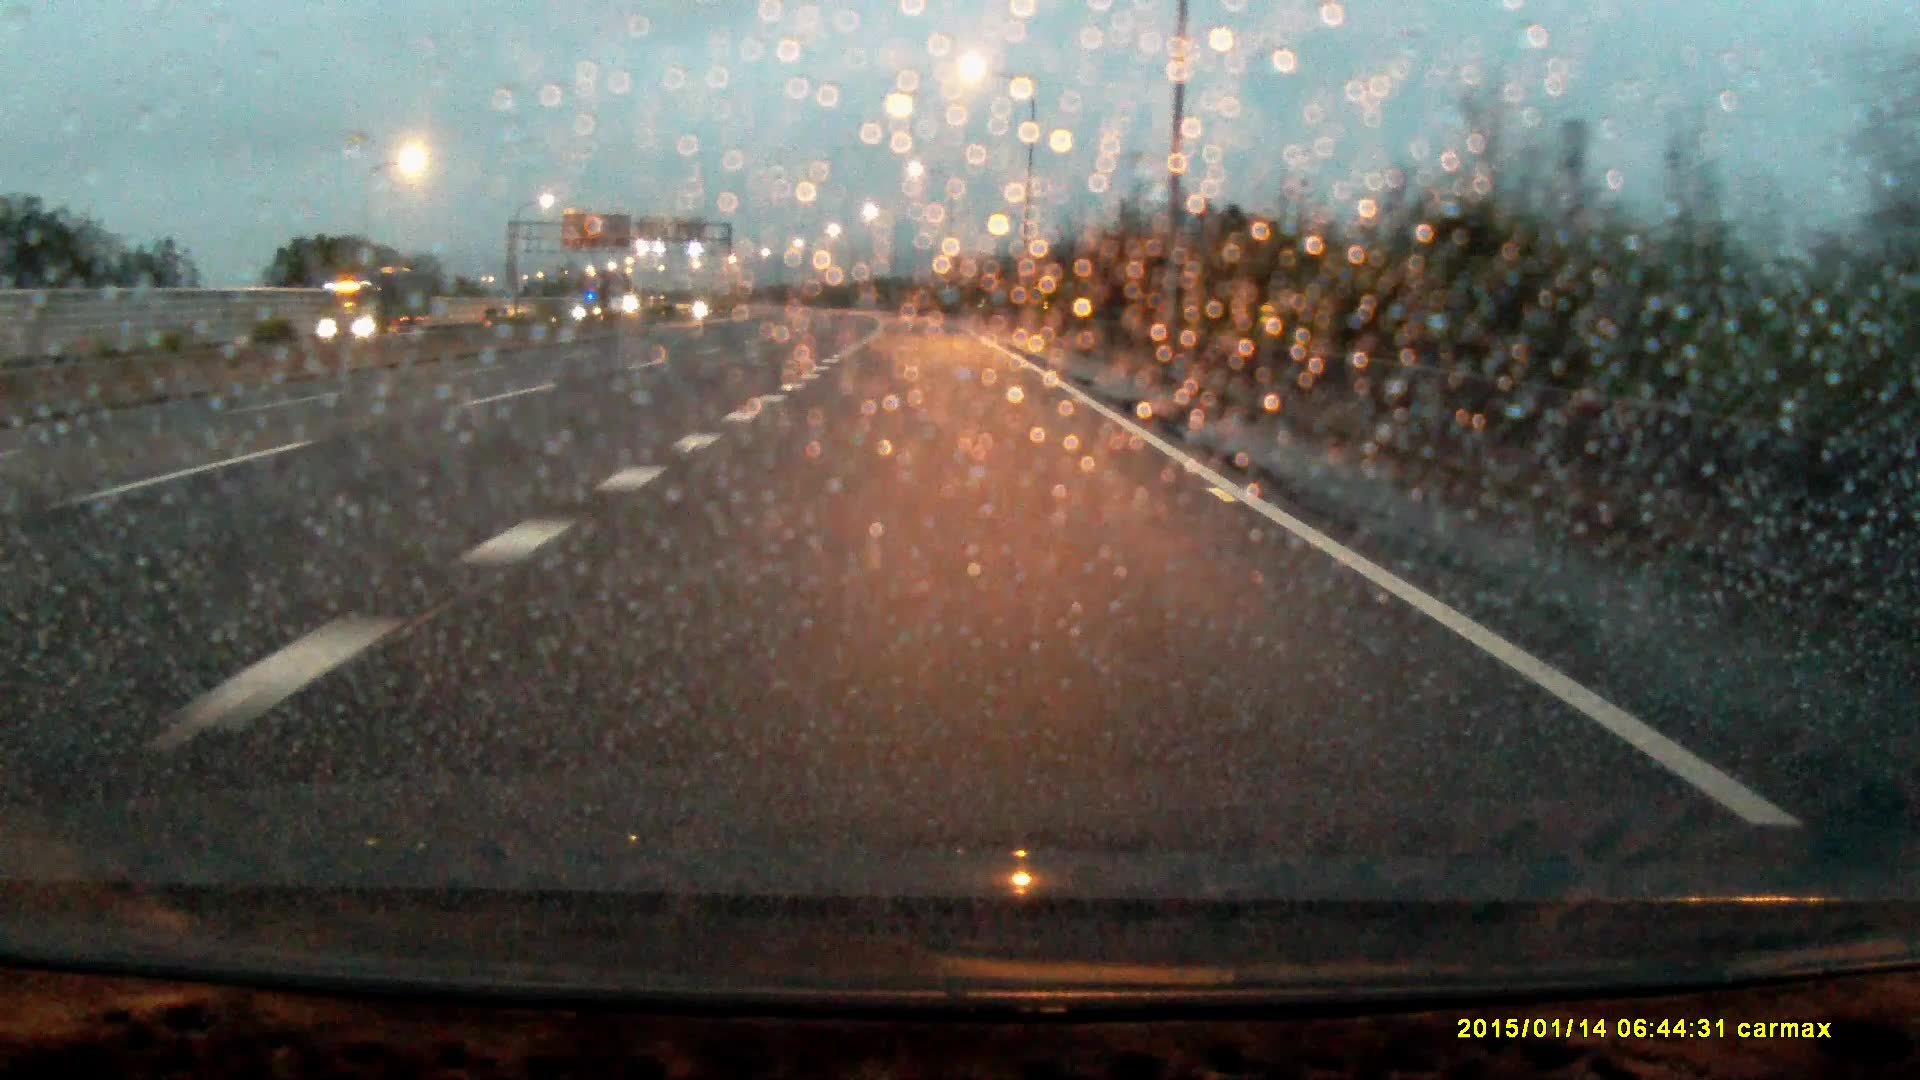vehicle: (315, 280, 409, 345)
